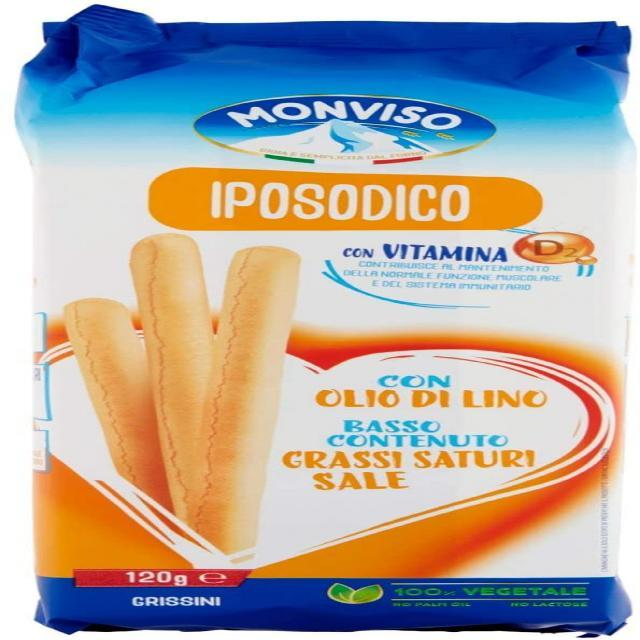Grissini: (64, 235, 304, 551)
